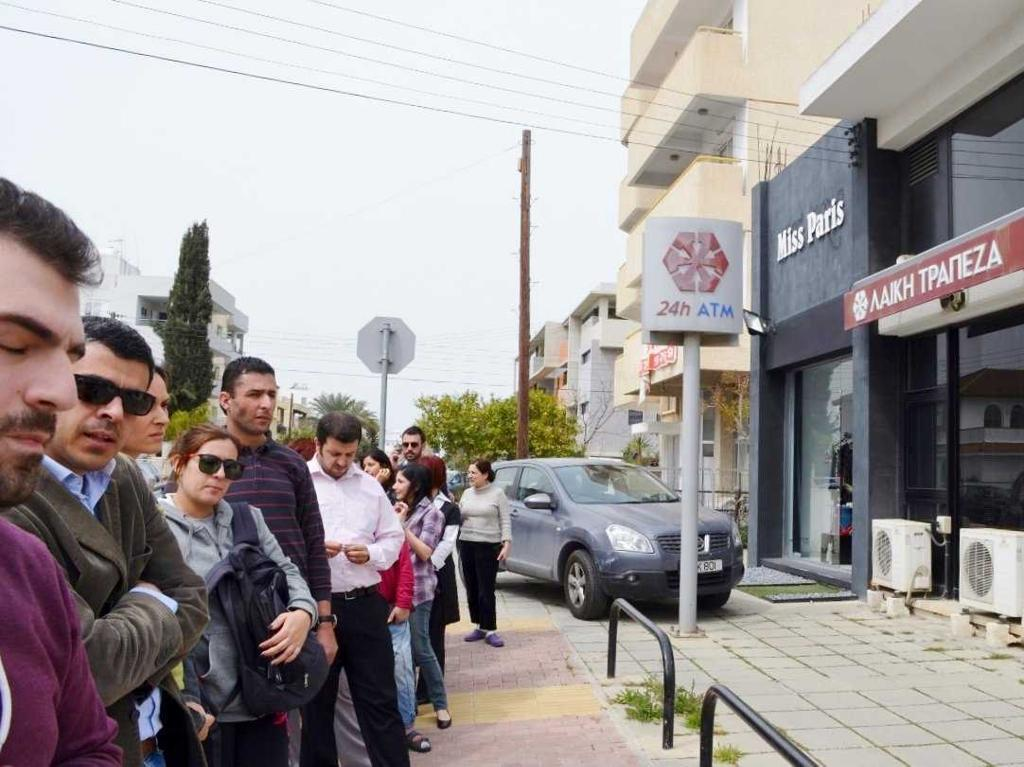face: (1, 255, 85, 506), (50, 343, 150, 472), (117, 374, 170, 454), (183, 440, 238, 505), (231, 374, 277, 431), (321, 439, 359, 477), (392, 471, 414, 500), (404, 436, 422, 460), (363, 459, 381, 482), (469, 465, 485, 485)
